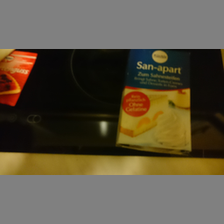cake: (116, 47, 196, 155)
